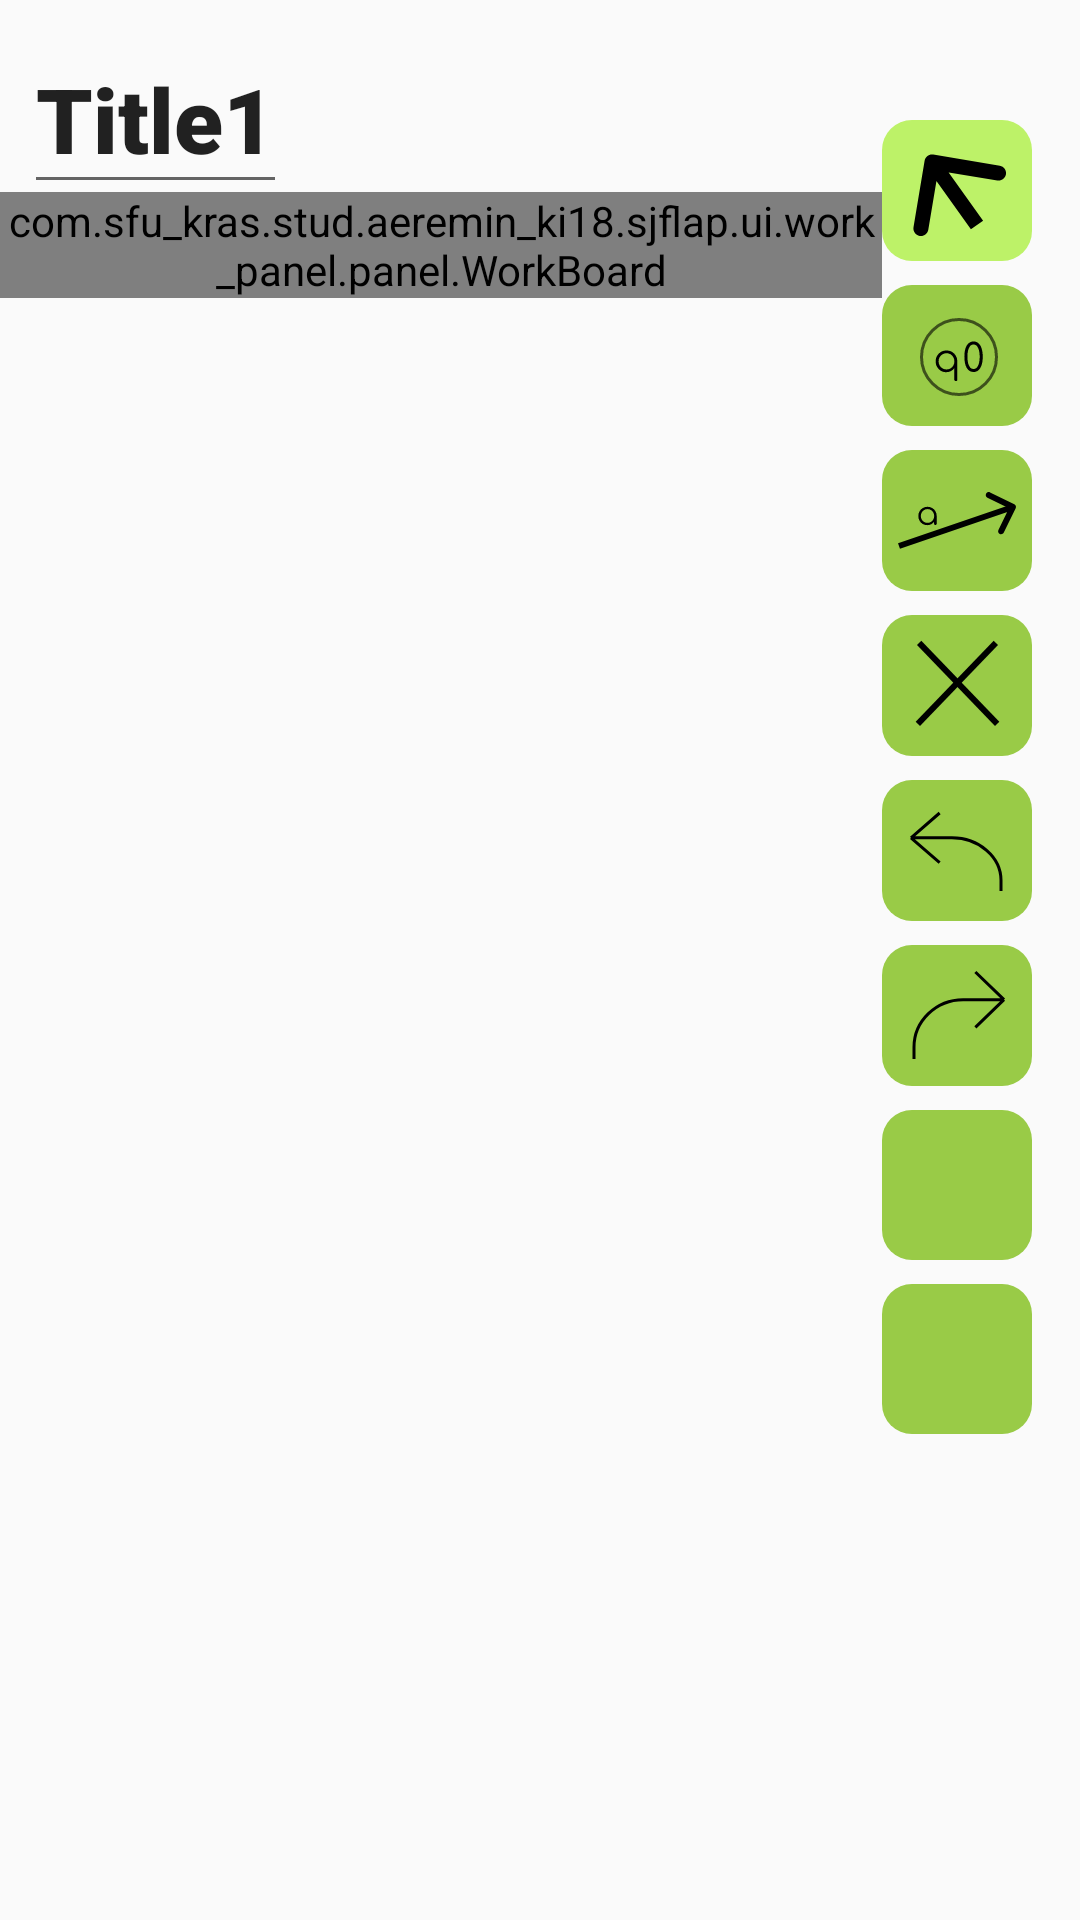

Named icons in this screenshot (1080w x 1920h) and their bounding boxes, bbox=[x1, y1, x2, y2]:
back: bbox=[882, 780, 1032, 921]
cursor: bbox=[882, 120, 1032, 261]
delete elem: bbox=[882, 615, 1032, 756]
forward: bbox=[882, 945, 1032, 1086]
state: bbox=[882, 285, 1032, 426]
transition: bbox=[882, 450, 1032, 591]
